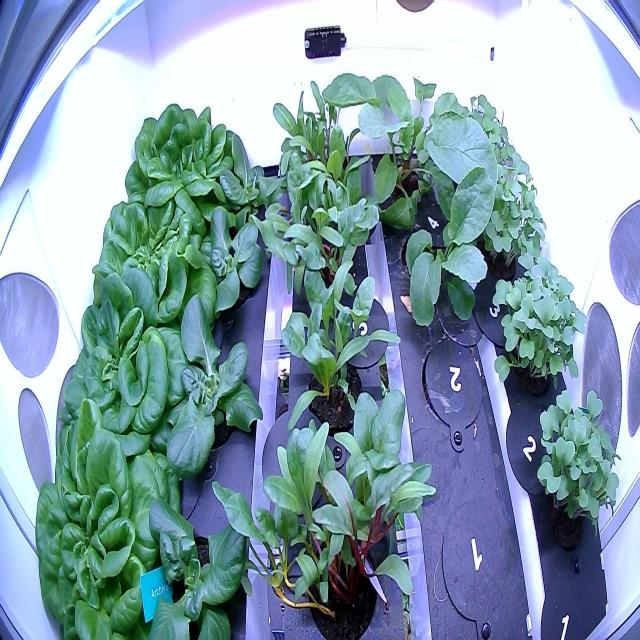Ready: (30, 396, 184, 640), (53, 251, 215, 467), (82, 172, 230, 358), (121, 93, 240, 250)
empty_pod: (437, 497, 520, 635), (419, 328, 490, 440)
young: (154, 287, 270, 489), (135, 477, 249, 640), (186, 187, 270, 326), (213, 111, 286, 236)
